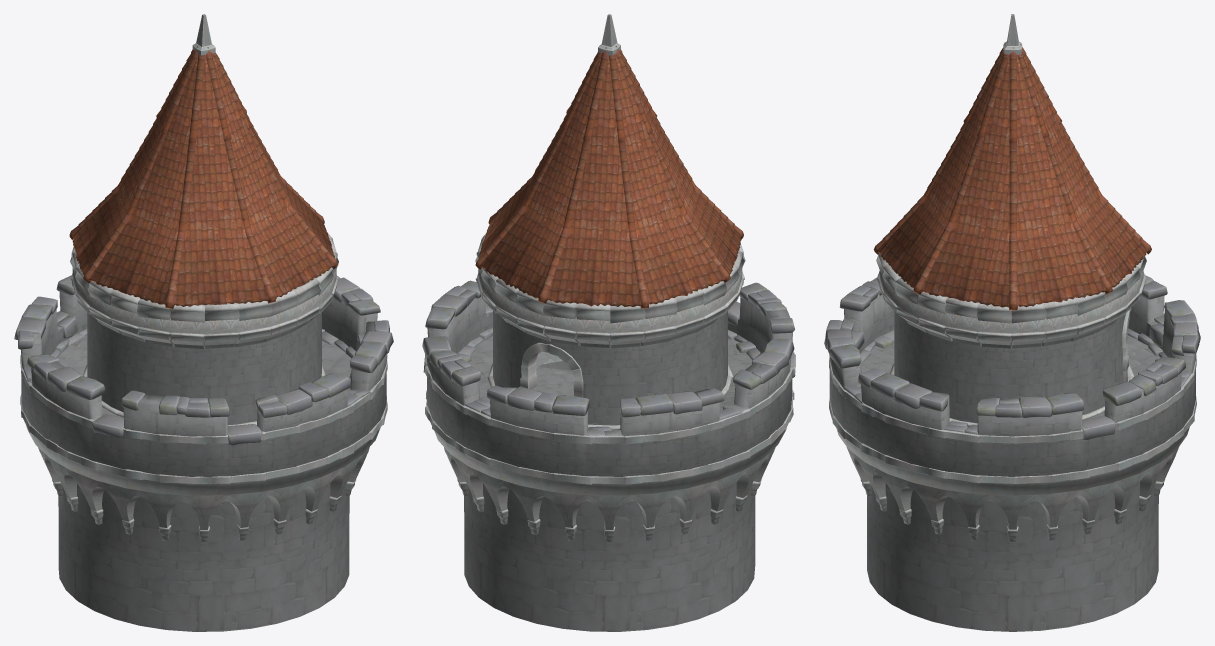
File: SM_TowerA_Top_02.fbx
3 views of the same model, side by side, from view 1: azimuth 30°, elevation 25°; view 2: azimuth 150°, elevation 25°; view 3: azimuth 270°, elevation 25° (orthographic).
Parts seen in each view (by area): view 1: SM_TowerA_Top_02_LOD0; view 2: SM_TowerA_Top_02_LOD0; view 3: SM_TowerA_Top_02_LOD0.
Part boxes in pixels (x1,y1,x2,y2): SM_TowerA_Top_02_LOD0: (14, 14, 393, 631); SM_TowerA_Top_02_LOD0: (422, 14, 795, 631); SM_TowerA_Top_02_LOD0: (824, 14, 1200, 631).
Size of what is drawn, in the model's own units: 1031 by 1682 by 1033.
